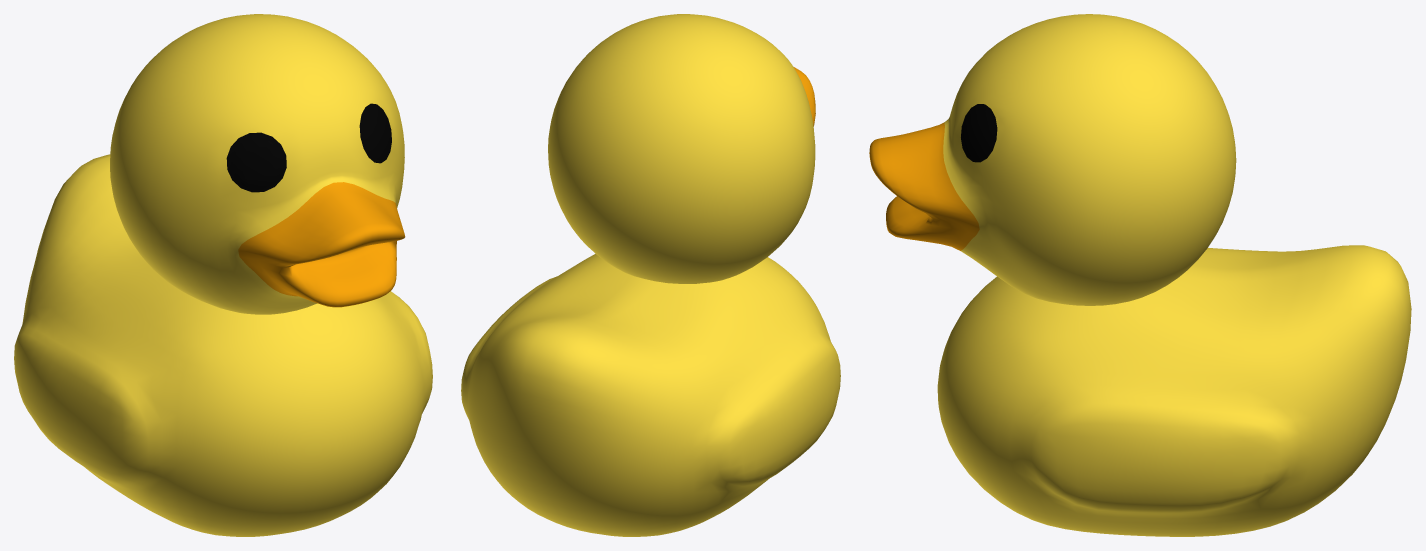
The model's file is Duck.fbx.
The picture shows the model from 3 angles, left to right: view 1: azimuth 30°, elevation 25°; view 2: azimuth 150°, elevation 25°; view 3: azimuth 270°, elevation 25°; orthographic projection. The views are drawn at different scales.
Visible parts, largest first — view 1: Duck; view 2: Duck; view 3: Duck.
Part boxes in pixels (x1=…): Duck: x1=14, y1=14, x2=432, y2=536; Duck: x1=461, y1=14, x2=840, y2=536; Duck: x1=869, y1=14, x2=1411, y2=536.
Bounding box in the file's own units: 440 × 619 × 633.
1 material, 1 textured.
